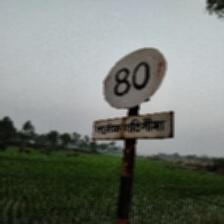Speed-limit: (92, 45, 173, 140)
